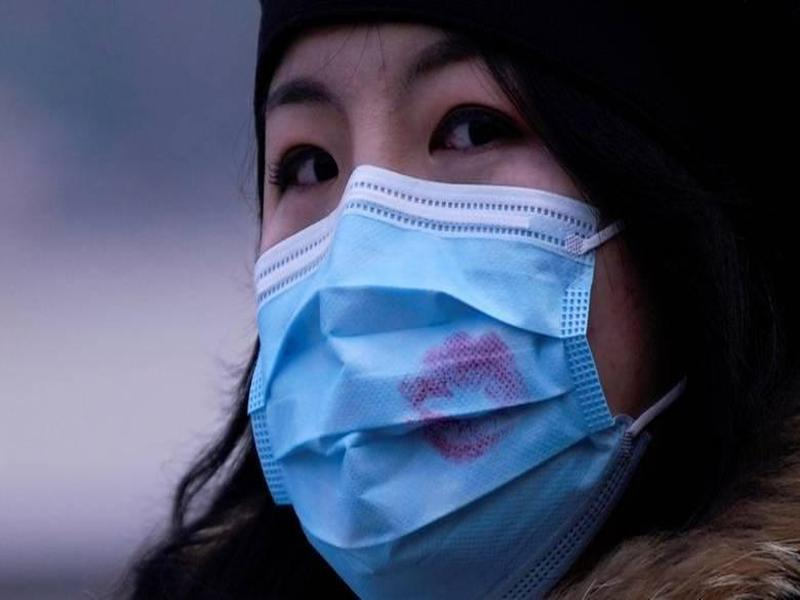with_mask: (233, 24, 674, 596)
